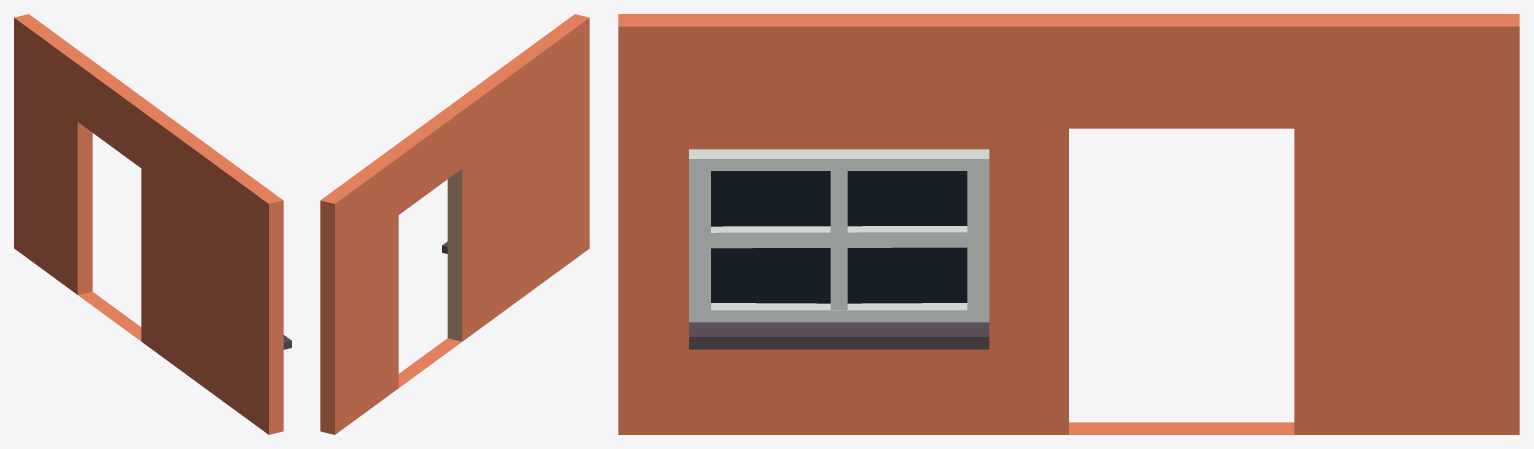
Rendered from wall_door.fbx.
The picture shows the model from 3 angles, left to right: view 1: azimuth 30°, elevation 25°; view 2: azimuth 150°, elevation 25°; view 3: azimuth 270°, elevation 25°; orthographic projection. The views are drawn at different scales.
Visible parts, largest first — view 1: Cube.001; view 2: Cube.001; view 3: Cube.001, Cube.
Part boxes in pixels (left/top/right/bottom): Cube.001: left=14, top=14, right=283, bottom=434; Cube.001: left=320, top=14, right=589, bottom=434; Cube.001: left=618, top=14, right=1519, bottom=434; Cube: left=689, top=149, right=989, bottom=349.
Size of the model in its own units: 584 by 3000 by 6000.
